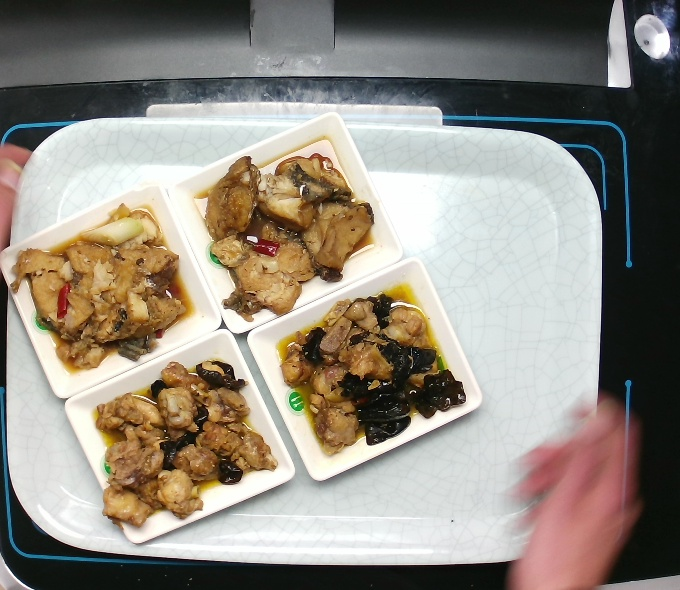wcq-MuErRouKuai: (86, 356, 284, 530), (268, 285, 466, 459)
wcq-YuKuai: (195, 139, 379, 319), (14, 198, 198, 378)
